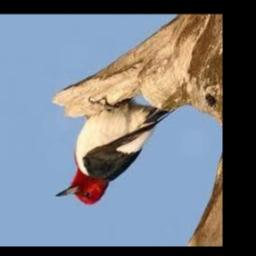Woodpecker: (55, 103, 169, 204)
